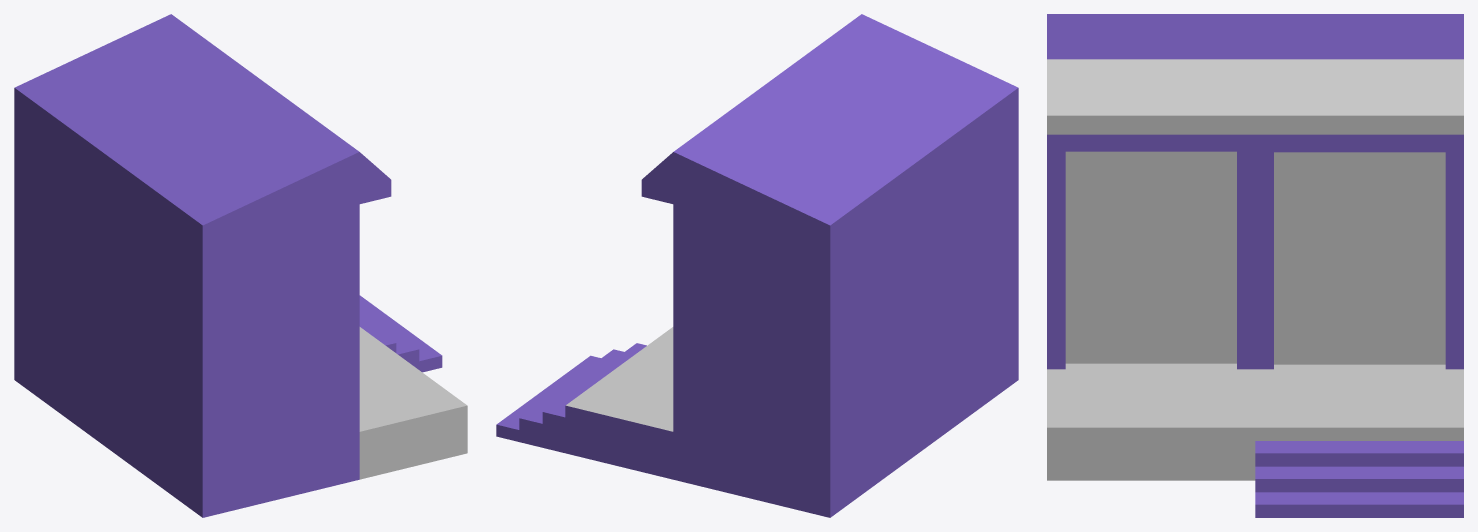
File: house_backyard.dae
3 renders of one model, left to right at view 1: azimuth 30°, elevation 25°; view 2: azimuth 150°, elevation 25°; view 3: azimuth 270°, elevation 25°, orthographic. The views are drawn at different scales.
Parts seen in each view (by area): view 1: Cube; view 2: Cube; view 3: Cube.
Part boxes in pixels (x1,y1,x2,y2): Cube: (14, 14, 467, 517); Cube: (496, 14, 1018, 517); Cube: (1047, 14, 1463, 517).
Size of the model in its own units: 14.6 by 14.27 by 13.7.
